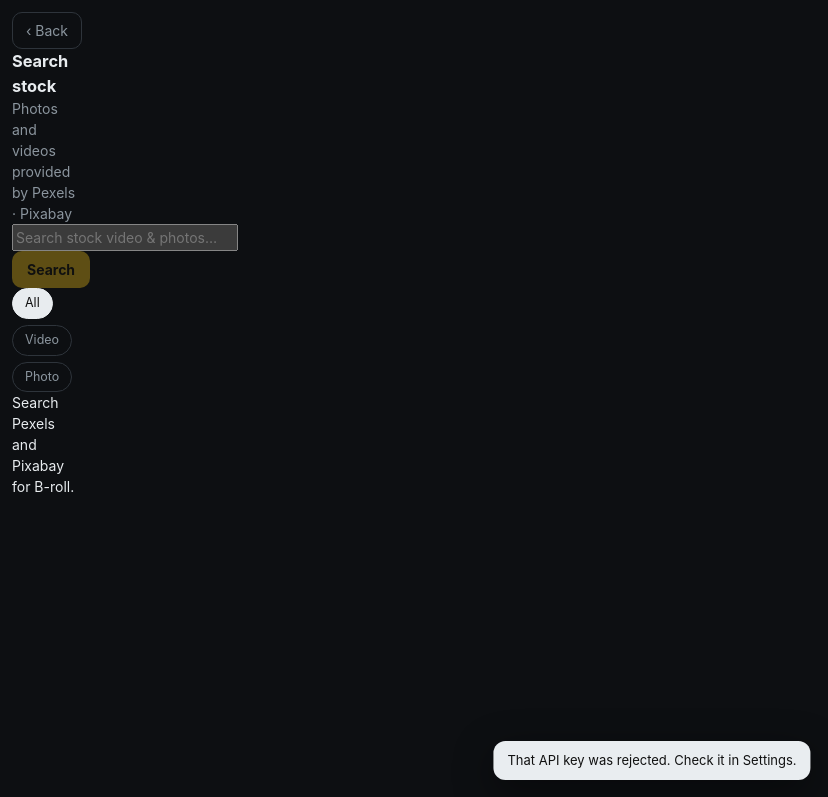
StockPanel: Add to library › downloads into the library, notifies the caller, and marks the tile added
In the field with placeholder "Search stock video & photos…": [125, 238] box [12,224,238,251], type "garden"
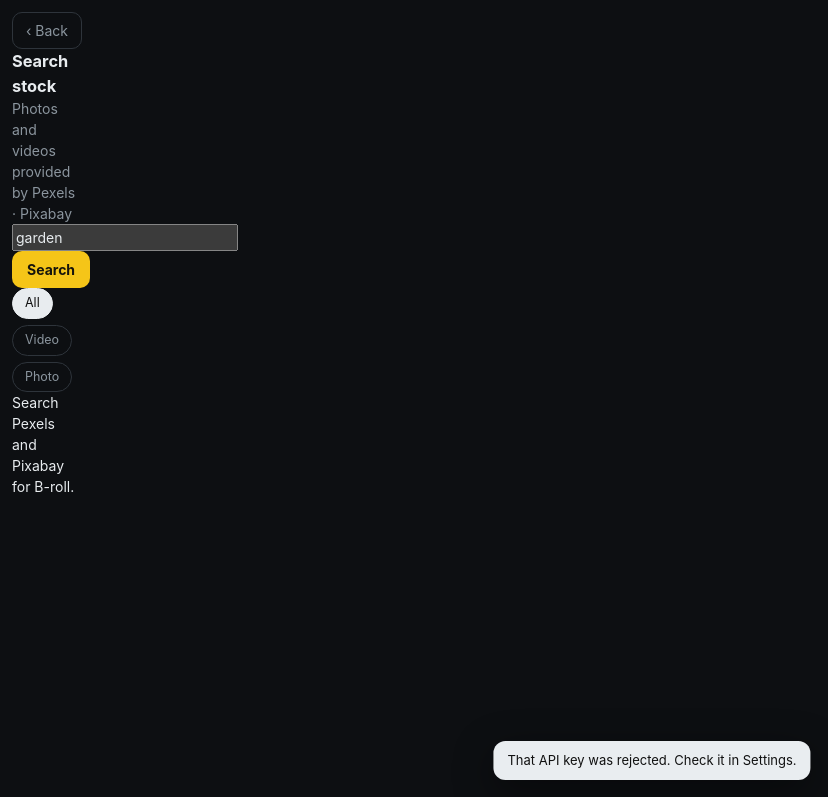
Click the button "Search": [51, 270] box [12,251,90,288]
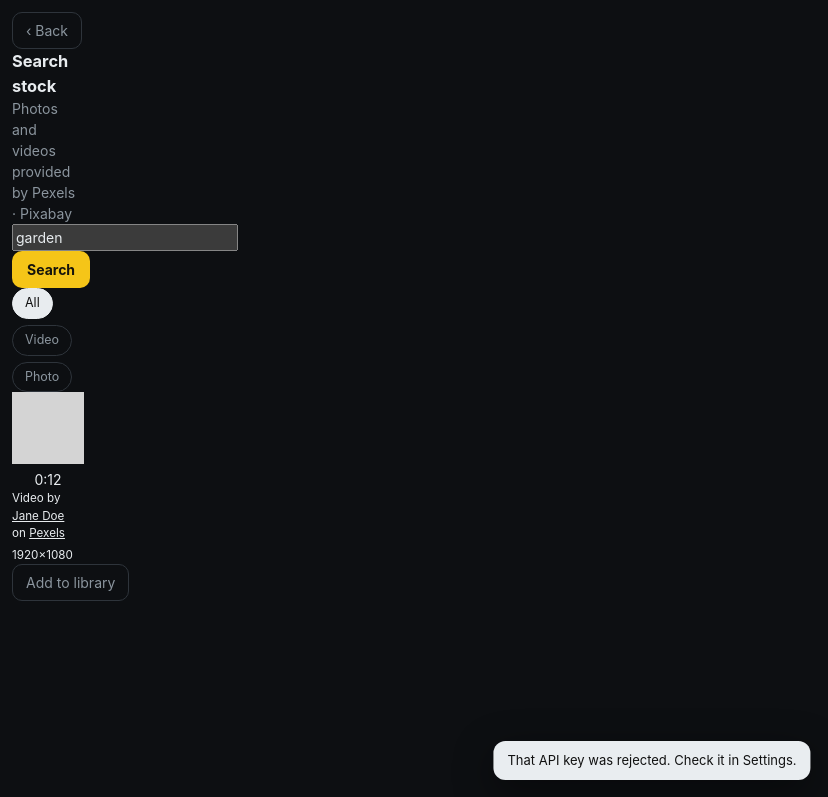
Expected: the link "Jane Doe" is shown, [12,509,64,523]
Click the button "Add to library": [71, 583] box [12,564,129,601]
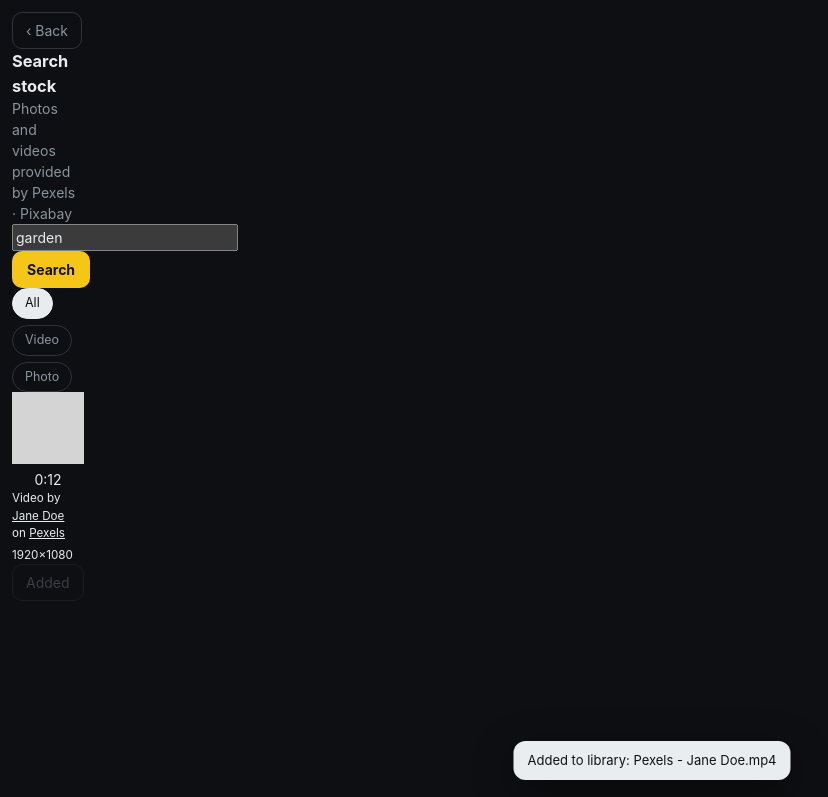
Expected: the button "Added" is shown, [12,564,84,601]
Expected: the message reads "Added to library: Pexels - Jane Doe.mp4", [528,752,776,768]
